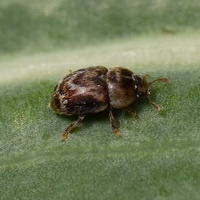insect: (50, 66, 167, 139)
